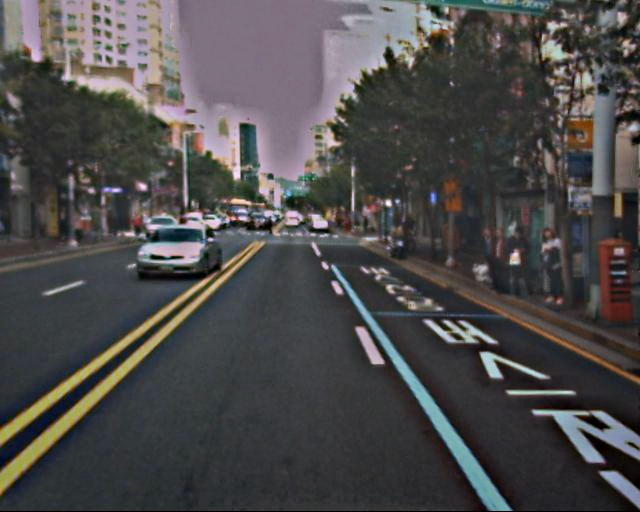person: (534, 226, 567, 306), (504, 226, 534, 298), (485, 228, 512, 293), (476, 228, 501, 288)
